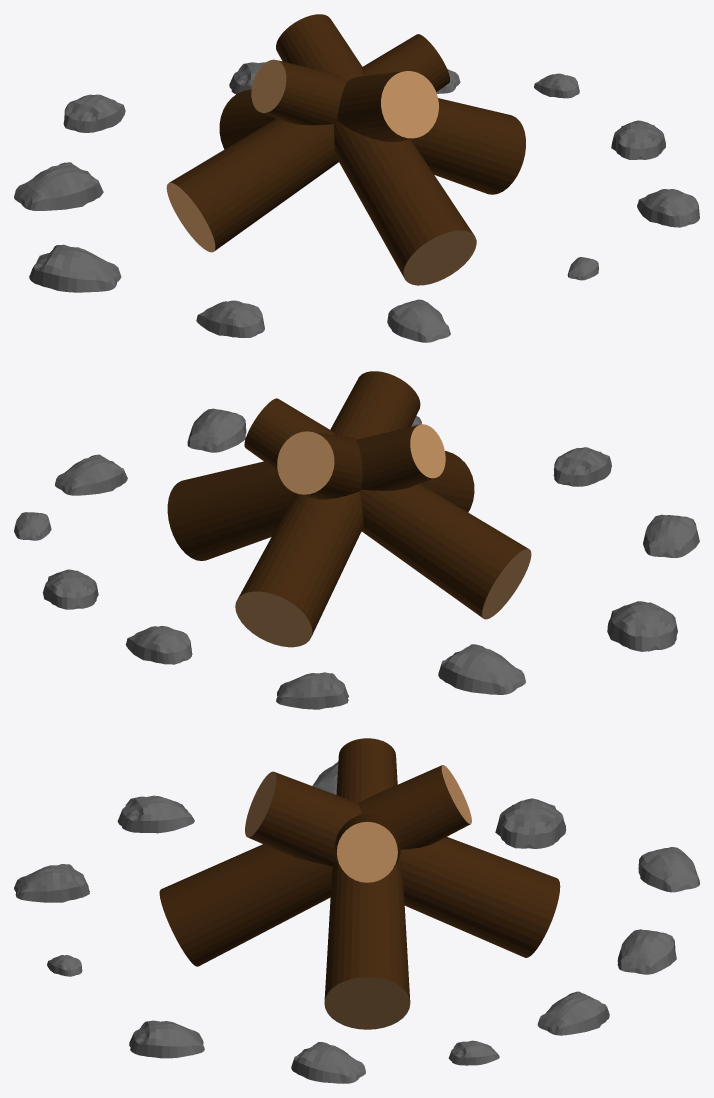
Rendered from campfire.fbx.
3 views of the same model, one above another, from view 1: azimuth 30°, elevation 25°; view 2: azimuth 150°, elevation 25°; view 3: azimuth 270°, elevation 25° (orthographic). The views are drawn at different scales.
Visible parts, largest first — view 1: Cylinder.020, Cylinder.017, Cylinder.018, Cylinder.021, Cube.020, Cube.019, Cube.022, Cube.021, Cube.024, Cube.017, Cube.025, Cube.026 (+2 smaller); view 2: Cylinder.021, Cylinder.017, Cylinder.018, Cylinder.020, Cube.019, Cube.020, Cube.017, Cube.025, Cube.024, Cube.021, Cube.028, Cube.022 (+2 smaller); view 3: Cylinder.021, Cylinder.020, Cylinder.018, Cylinder.017, Cube.019, Cube.024, Cube.022, Cube.021, Cube.025, Cube.027, Cube.028, Cube.017 (+2 smaller).
Part boxes in pixels (<box>): Cylinder.020: <box>276,14,476,285</box>; Cylinder.017: <box>166,34,449,252</box>; Cylinder.018: <box>251,59,525,194</box>; Cylinder.021: <box>219,71,438,149</box>; Cube.020: <box>29,244,121,292</box>; Cube.019: <box>14,162,103,210</box>; Cube.022: <box>387,299,450,342</box>; Cube.021: <box>196,300,264,337</box>; Cube.024: <box>637,189,699,227</box>; Cube.017: <box>63,94,125,132</box>; Cube.025: <box>611,120,665,159</box>; Cube.026: <box>534,73,579,98</box>; Cylinder.021: <box>235,371,420,647</box>; Cylinder.017: <box>244,398,531,619</box>; Cylinder.018: <box>167,424,445,560</box>; Cylinder.020: <box>277,431,474,512</box>; Cube.019: <box>438,644,525,694</box>; Cube.020: <box>607,601,677,651</box>; Cube.017: <box>276,672,348,709</box>; Cube.025: <box>55,454,127,495</box>; Cube.024: <box>187,408,246,452</box>; Cube.021: <box>643,514,699,557</box>; Cube.028: <box>125,626,192,664</box>; Cube.022: <box>553,447,611,486</box>; Cylinder.021: <box>245,771,560,957</box>; Cylinder.020: <box>159,765,471,966</box>; Cylinder.018: <box>324,738,410,1029</box>; Cylinder.017: <box>334,814,400,882</box>; Cube.019: <box>495,798,566,848</box>; Cube.024: <box>129,1020,204,1058</box>; Cube.022: <box>14,864,89,902</box>; Cube.021: <box>117,795,194,833</box>; Cube.025: <box>291,1042,365,1083</box>; Cube.027: <box>537,991,609,1035</box>; Cube.028: <box>617,929,676,974</box>; Cube.017: <box>638,847,699,892</box>.
Bounding box in the file's own units: 1305 × 373 × 1206.
